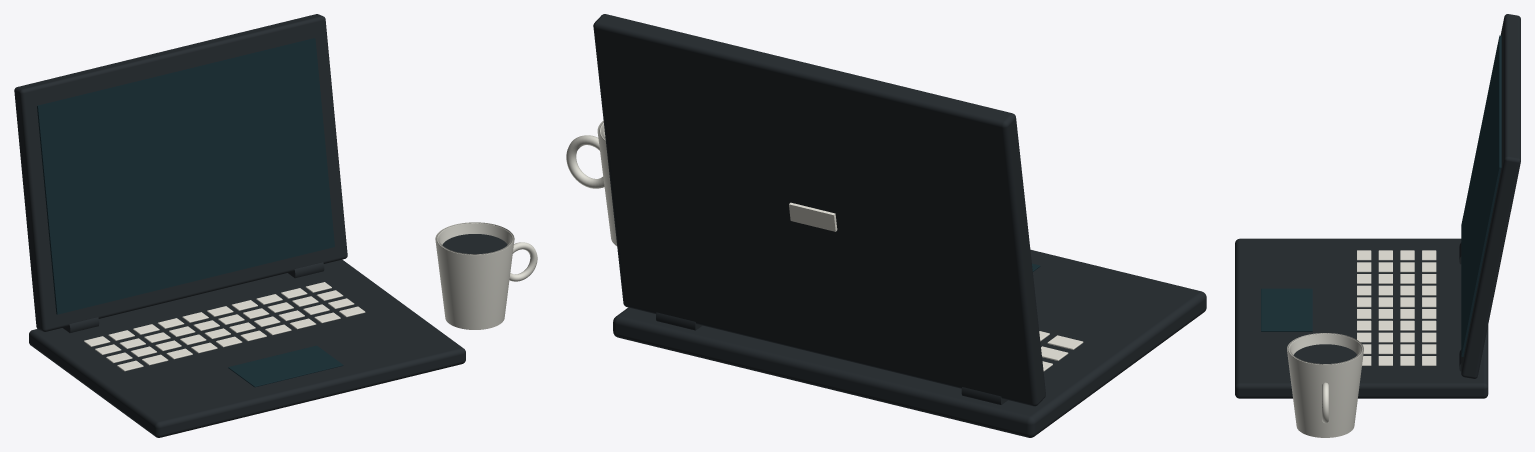
File: accessory-2.glb
The picture shows the model from 3 angles, left to right: view 1: azimuth 30°, elevation 25°; view 2: azimuth 150°, elevation 25°; view 3: azimuth 270°, elevation 25°; orthographic projection. The views are drawn at different scales.
Parts seen in each view (by area): view 1: accessory:2:archviz; view 2: accessory:2:archviz; view 3: accessory:2:archviz.
Boxes of the visible parts, <box> form: accessory:2:archviz: <box>14,14,537,437</box>; accessory:2:archviz: <box>566,14,1206,437</box>; accessory:2:archviz: <box>1235,14,1520,437</box>.
Size of the model in its own units: 0.398 by 0.2204 by 0.2371.
